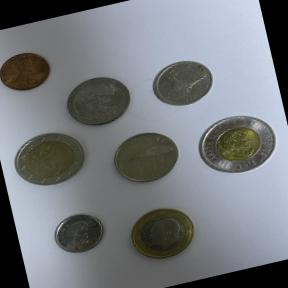1 Euro-B: (114, 194, 209, 273)
2 Euro-B: (2, 124, 93, 200)
Canada-10cent-B: (45, 205, 115, 265)
Canada-2Dollar-B: (185, 100, 288, 190)
Croatia-2Kune-B: (98, 118, 192, 197)
US-1cent-B: (0, 40, 66, 105)
US-25cent-B: (59, 66, 143, 136)
